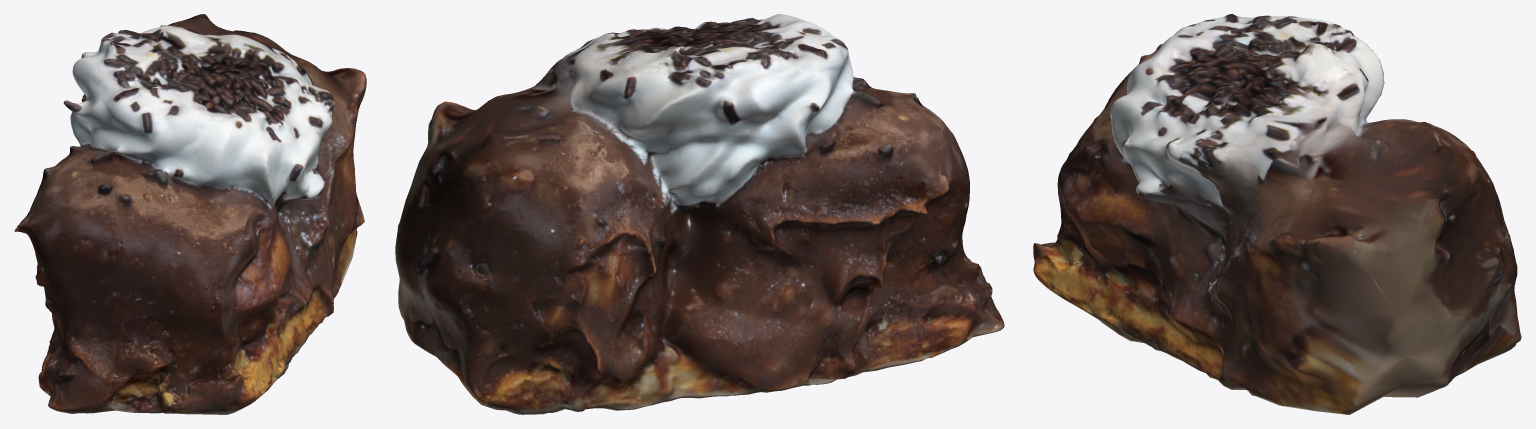
The model's file is plato3.glb.
3 views of the same model, side by side, from view 1: azimuth 30°, elevation 25°; view 2: azimuth 150°, elevation 25°; view 3: azimuth 270°, elevation 25° (orthographic). The views are drawn at different scales.
Visible parts, largest first — view 1: 3DModel; view 2: 3DModel; view 3: 3DModel.
Boxes of the visible parts, box(x1,y1,x2,y2) form: 3DModel: box(14, 14, 366, 414); 3DModel: box(395, 14, 1004, 414); 3DModel: box(1033, 14, 1521, 414).
Bounding box in the file's own units: 0.2844 × 0.1853 × 0.2871.
1 material, 1 textured.
